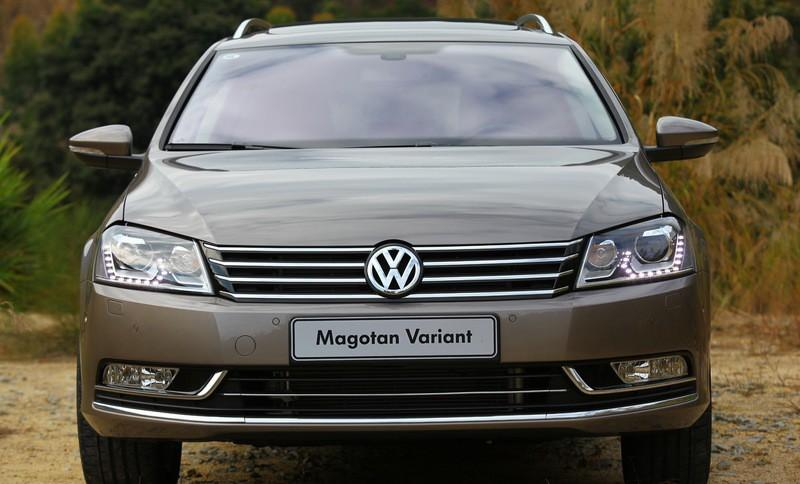Wagon: (66, 13, 721, 484)
